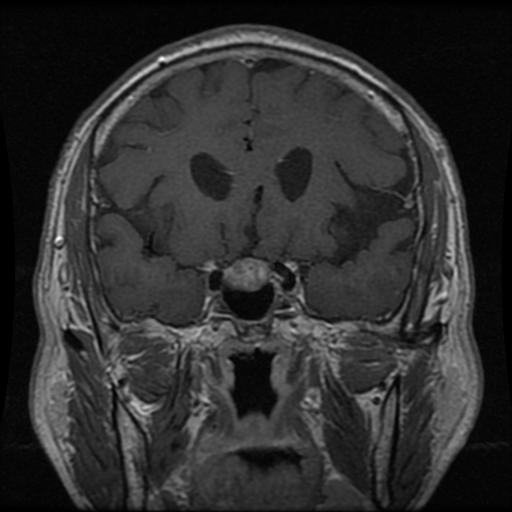Pituirity_tumour: (222, 255, 274, 290)
